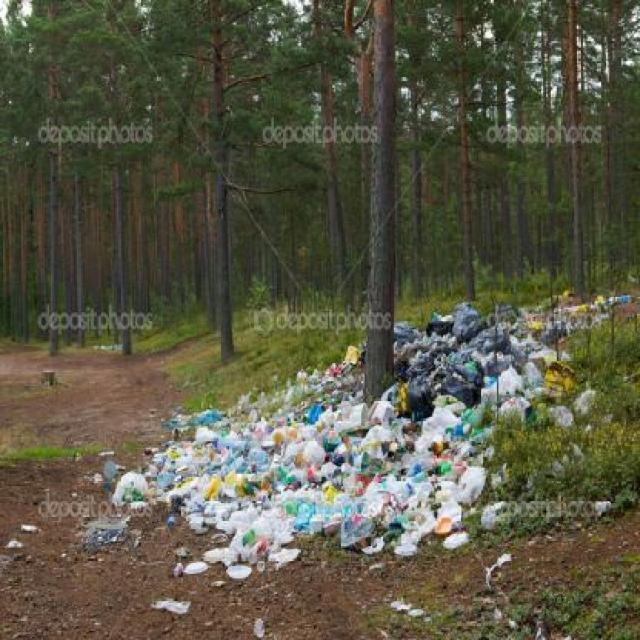garbage: (165, 400, 466, 551), (416, 307, 555, 416)
